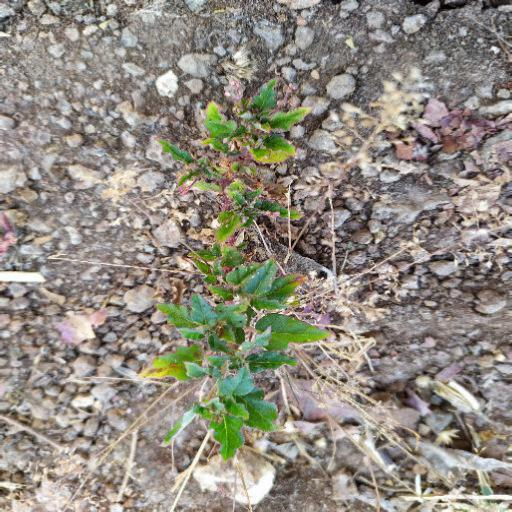weed: (84, 63, 478, 457)
